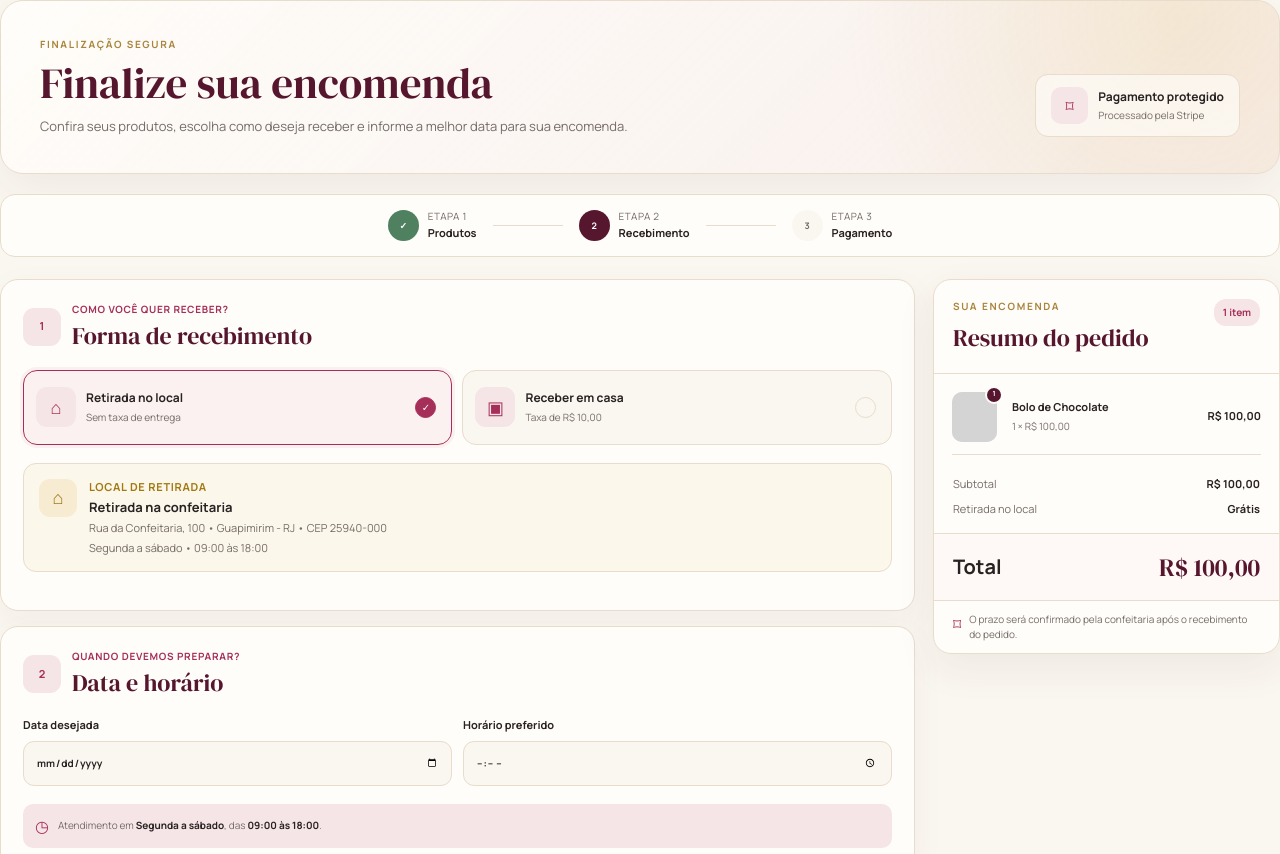
Payment - validações › rejeita endereço sem letras
Click the button "▣ Receber em casa Taxa de R$ 10,00".
click(495, 407)  # box [462,370,892,445]
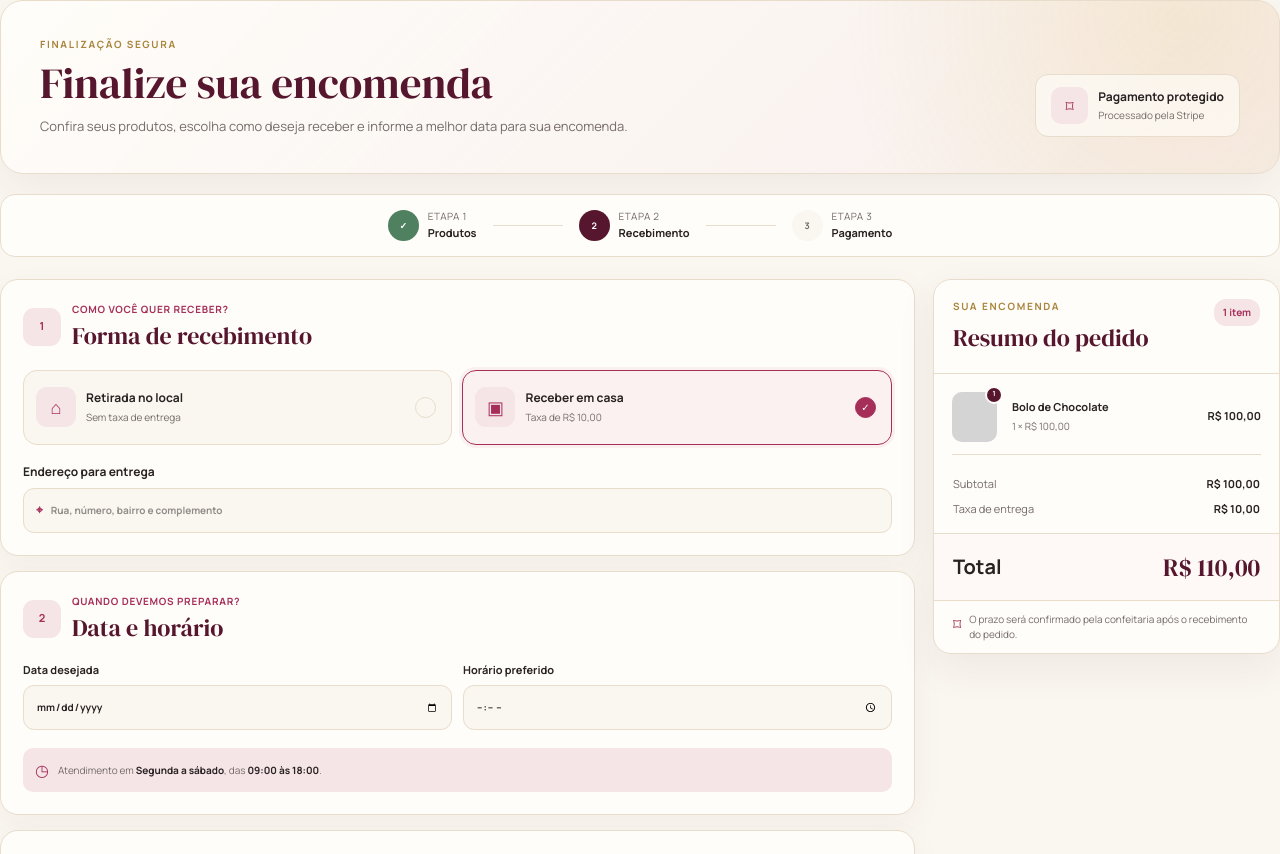
Type "12345678901234567890" into the field labelled "Endereço para entrega ⌖".
click(465, 510); type("12345678901234567890")  # box [51,503,879,518]
(page scrolled)
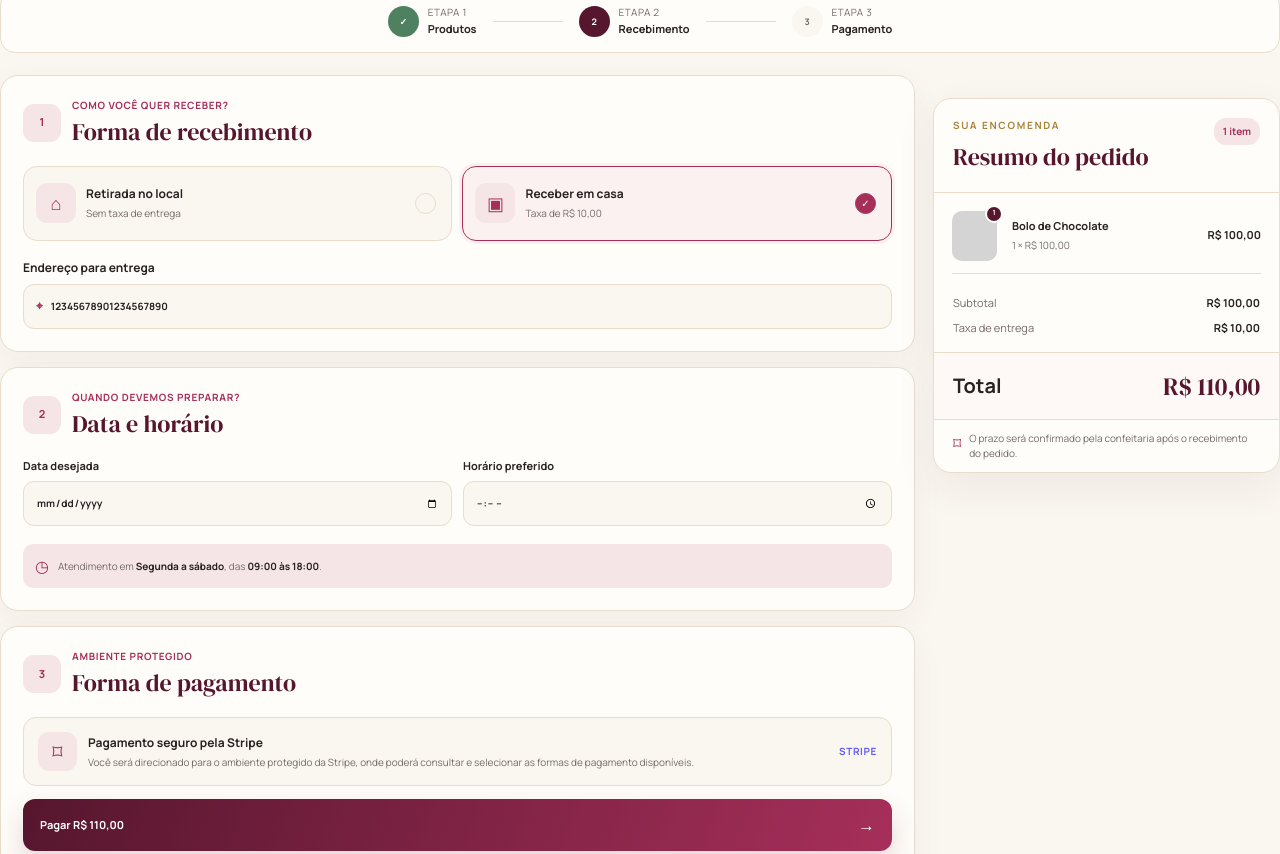
Click the button "Pagar R$ 110,00 →".
click(82, 824)  # box [23,799,892,851]
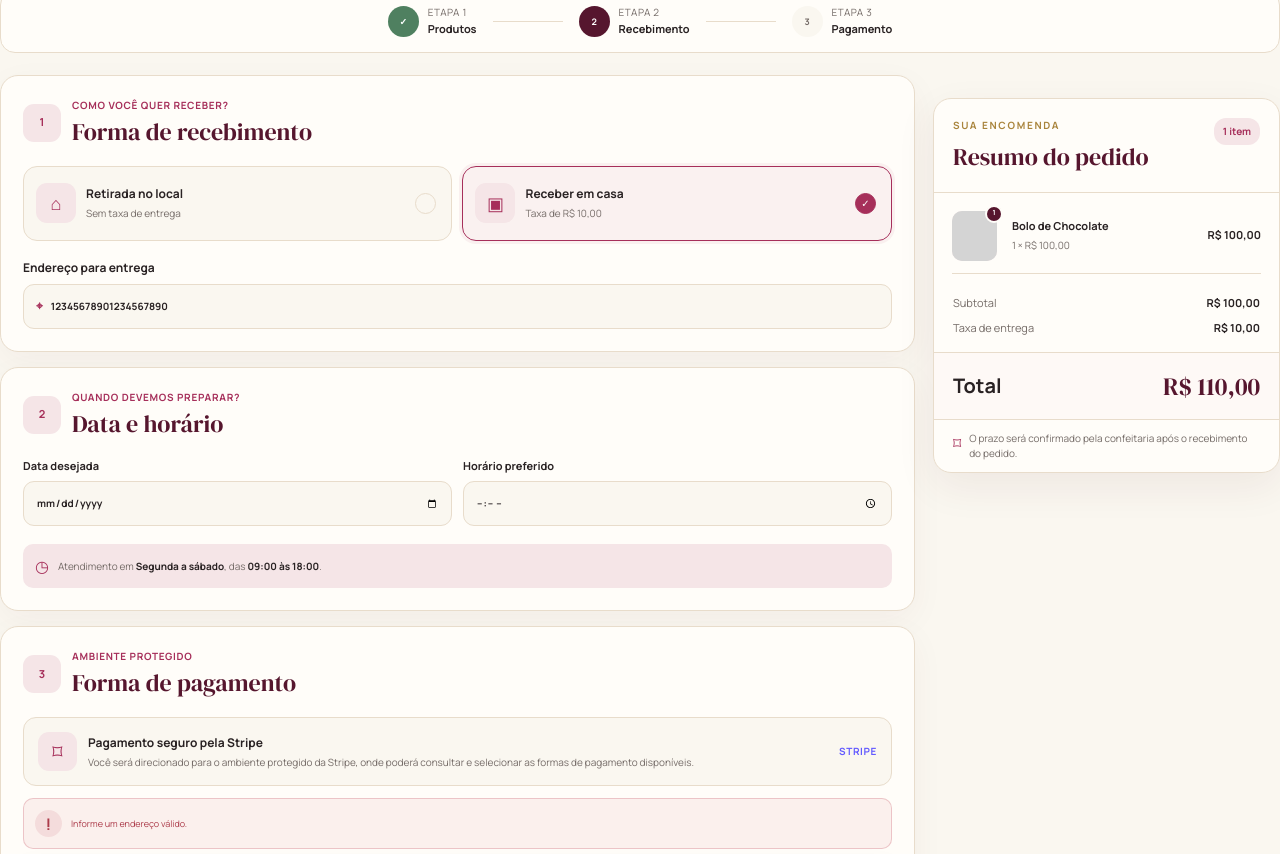
Result: the message shows "Informe um endereço válido." at [71,817,187,830]
